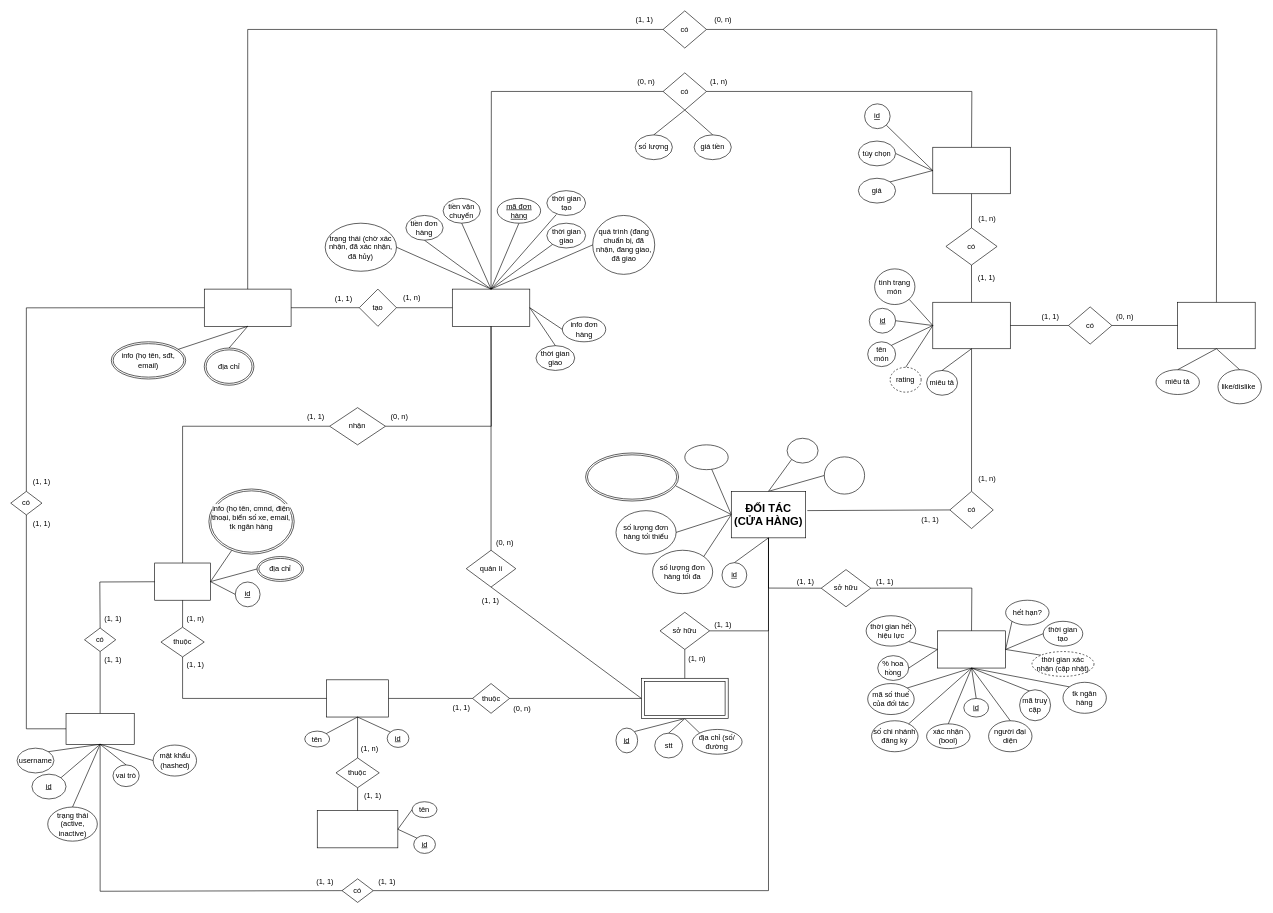
Some shapes in this 1273 by 913 pixel diagram are drawn without their labels. Here are the shapes that lost their labels. From the top down, the centre of each, then its label:
point 971,170: TÙY CHỌN MÓN
point 247,307: KHÁCH HÀNG
point 491,307: ĐƠN HÀNG
point 971,325: MÓN
point 1216,325: ĐÁNH GIÁ
point 706,457: tên cửa hàng
point 802,450: tình trạng
point 632,476: info (emaill, người đại diện, tk ngân hàng, sđt)
point 844,475: loại ẩm thực
point 182,581: TÀI XẾ
point 971,649: HỢP ĐỒNG
point 357,698: QUẬN (HUYỆN)
point 684,698: CHI NHÁNH
point 99,728: TÀI KHOẢN
point 357,829: THÀNH PHỐ (TỈNH)
